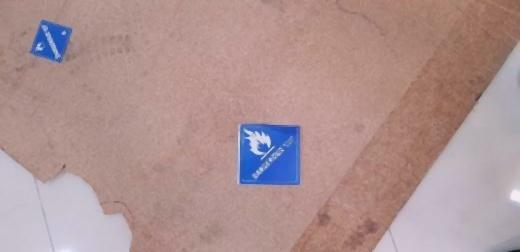dangerous-when-wet: (240, 124, 302, 186), (30, 18, 73, 64)
